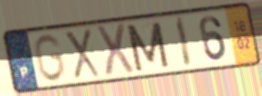6: (198, 15, 228, 63)
G: (32, 32, 67, 84)
I: (174, 15, 195, 69)
M: (123, 20, 172, 74)
X: (93, 22, 136, 80), (62, 27, 103, 81)
